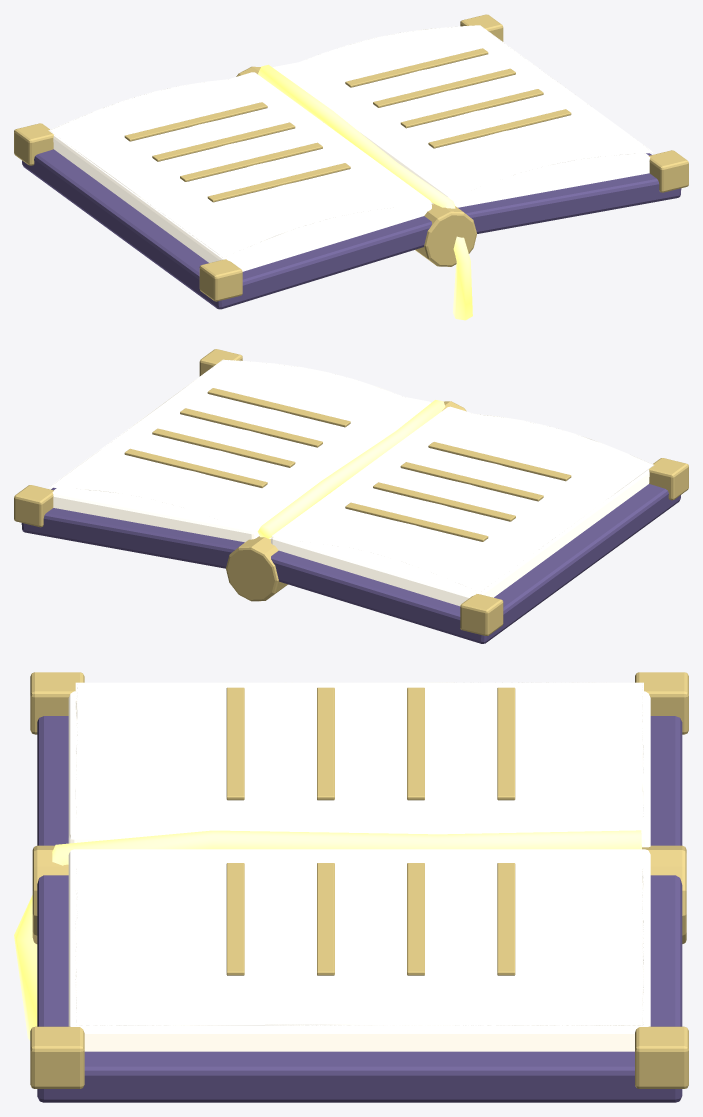
Rendered from luminous_tome.glb.
The picture shows the model from 3 angles, top to bottom: view 1: azimuth 30°, elevation 25°; view 2: azimuth 150°, elevation 25°; view 3: azimuth 270°, elevation 25°; orthographic projection. The views are drawn at different scales.
Parts seen in each view (by area): view 1: CurvedPageSheetL, CoverL, CornerGuard_-1.86_-1.34, SilkBookmarkRibbon; view 2: CurvedPageSheetL, CoverL, CornerGuard_-1.86_-1.34, SilkBookmarkRibbon; view 3: CurvedPageSheetL, CoverL, CornerGuard_-1.86_-1.34, SilkBookmarkRibbon.
Part boxes in pixels (<box>): CurvedPageSheetL: <box>48,25,654,271</box>; CoverL: <box>22,149,681,309</box>; CornerGuard_-1.86_-1.34: <box>14,14,688,301</box>; SilkBookmarkRibbon: <box>258,64,472,320</box>; CurvedPageSheetL: <box>48,359,654,606</box>; CoverL: <box>21,484,680,643</box>; CornerGuard_-1.86_-1.34: <box>14,349,688,635</box>; SilkBookmarkRibbon: <box>257,400,445,539</box>; CurvedPageSheetL: <box>68,682,650,1051</box>; CoverL: <box>37,716,682,1102</box>; CornerGuard_-1.86_-1.34: <box>30,672,688,1088</box>; SilkBookmarkRibbon: <box>14,830,641,1040</box>.
Size of the model in its own units: 3.96 by 0.9737 by 2.99.
